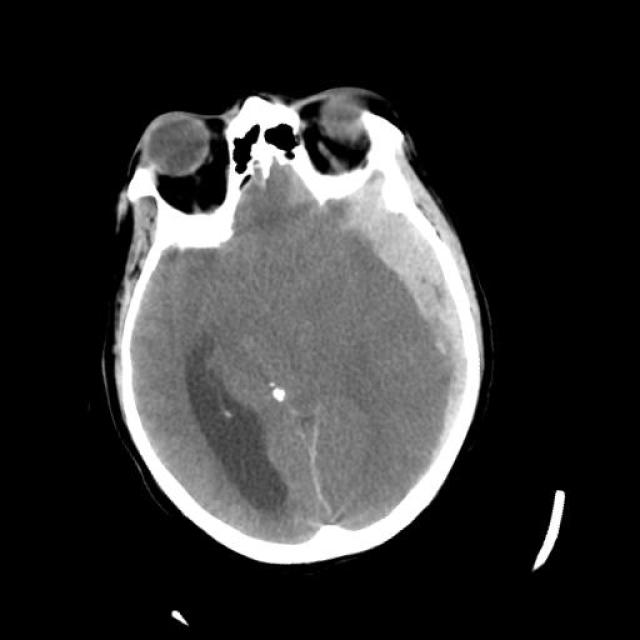Subdural: (313, 148, 536, 488)
